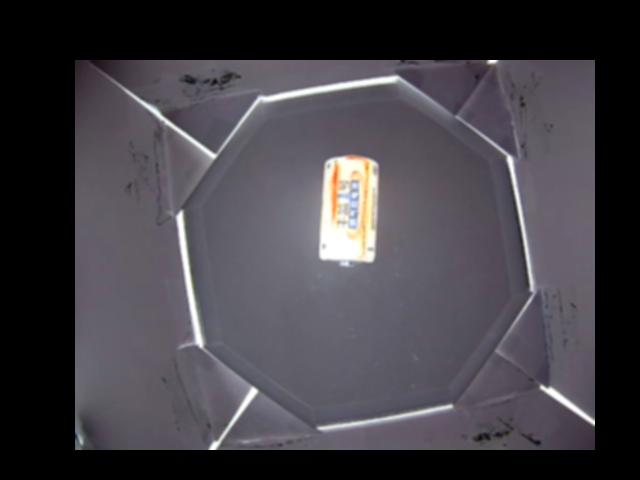Battery: (318, 155, 378, 267)
